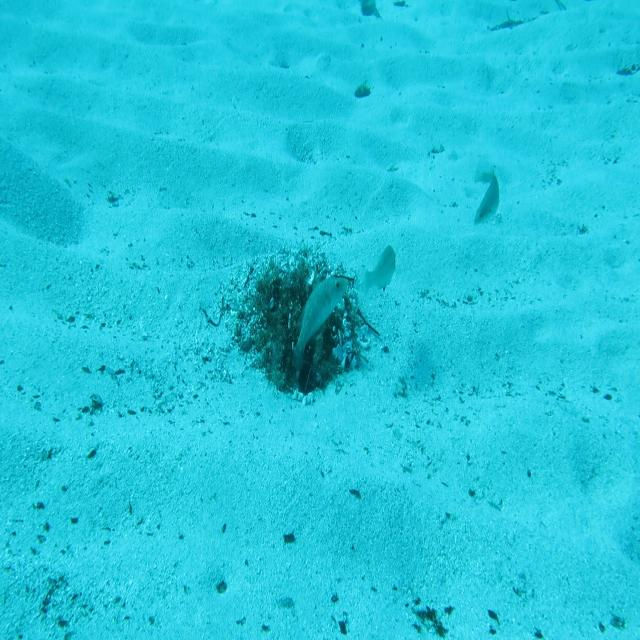LF: (285, 266, 352, 381)
female: (354, 232, 402, 300)
nest: (231, 249, 366, 408)
other_fish: (464, 160, 508, 232)
